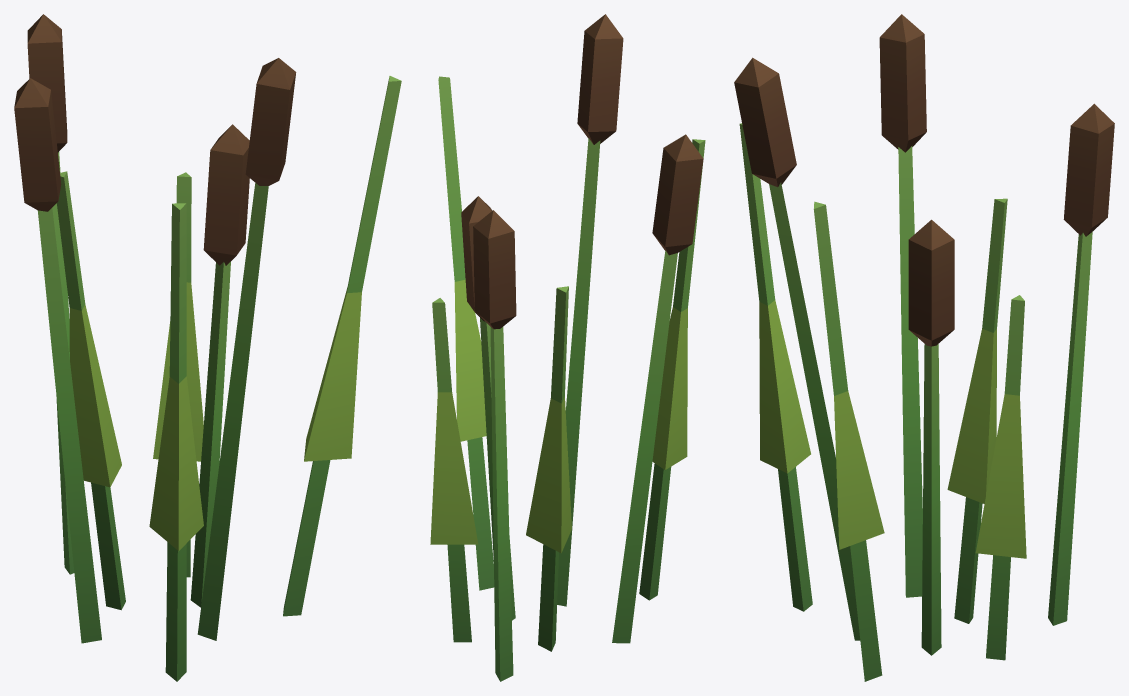
Rendered from reeds.glb.
The picture shows the model from 3 angles, left to right: view 1: azimuth 30°, elevation 25°; view 2: azimuth 150°, elevation 25°; view 3: azimuth 270°, elevation 25°; orthographic projection. The views are drawn at different scales.
Visible parts, largest first — view 1: reeds; view 2: reeds; view 3: reeds.
Boxes of the visible parts, left/top/right/bottom form: reeds: left=14, top=14, right=401, bottom=681; reeds: left=430, top=14, right=705, bottom=681; reeds: left=734, top=14, right=1114, bottom=681.
Size of the model in its own units: 3.27 by 5.65 by 3.32.
1 material, 1 textured.
